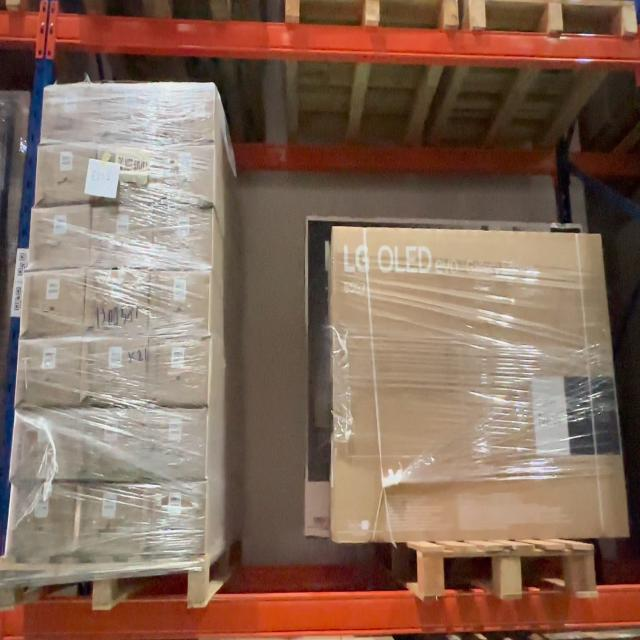box: (337, 233, 604, 538), (14, 415, 76, 481), (86, 410, 144, 480), (11, 491, 69, 556), (20, 340, 78, 404), (148, 488, 204, 551), (84, 491, 139, 555), (146, 418, 205, 477), (152, 340, 207, 403), (30, 208, 88, 267), (23, 274, 83, 331), (153, 274, 210, 334), (88, 274, 148, 330), (160, 82, 213, 144), (94, 210, 150, 268), (86, 344, 146, 395), (43, 91, 97, 143), (99, 149, 154, 200), (156, 207, 210, 258), (102, 86, 154, 138), (159, 149, 213, 196), (38, 152, 90, 199)
